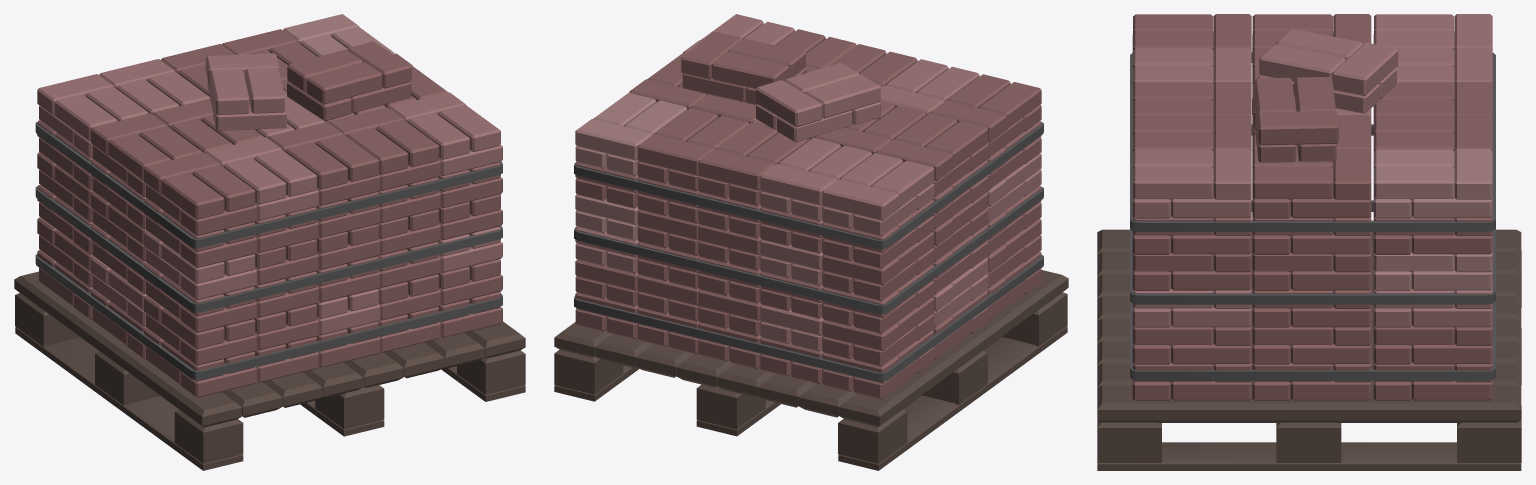
File: props_45.glb
The picture shows the model from 3 angles, left to right: view 1: azimuth 30°, elevation 25°; view 2: azimuth 150°, elevation 25°; view 3: azimuth 270°, elevation 25°; orthographic projection. The views are drawn at different scales.
Parts seen in each view (by area): view 1: props_45; view 2: props_45; view 3: props_45.
Boxes of the visible parts, x1,y1,x2,y2 form: props_45: [14, 14, 525, 470]; props_45: [554, 14, 1068, 470]; props_45: [1097, 14, 1521, 470].
Size of the model in its own units: 1.99 by 1.68 by 2.
1 material, 1 textured.
